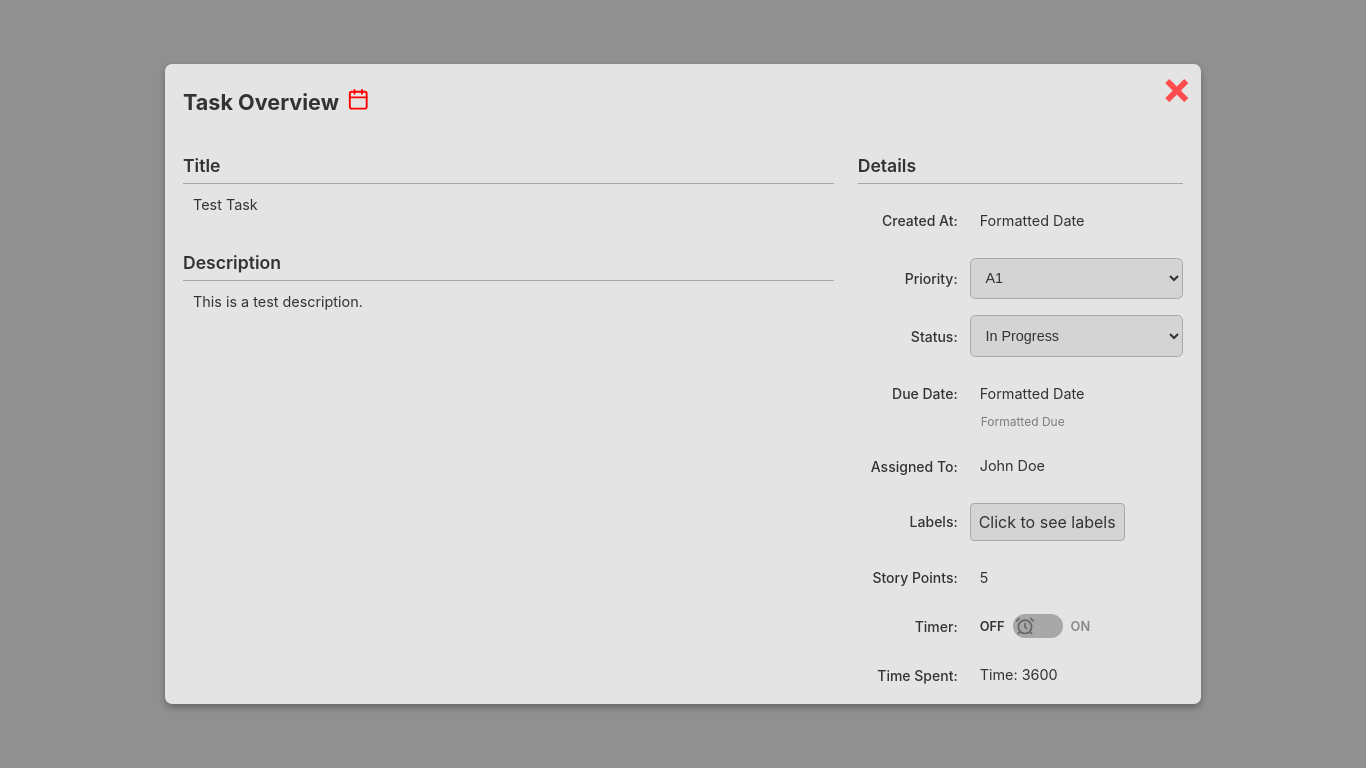
ViewTaskModal - Integration Tests › ViewTaskModal - Label Field › opens labels dropdown on clicking label field
The image size is (1366, 768).
Click the text "Click to see labels" at (1047, 522), box top-left (970, 503), bottom-right (1125, 541)
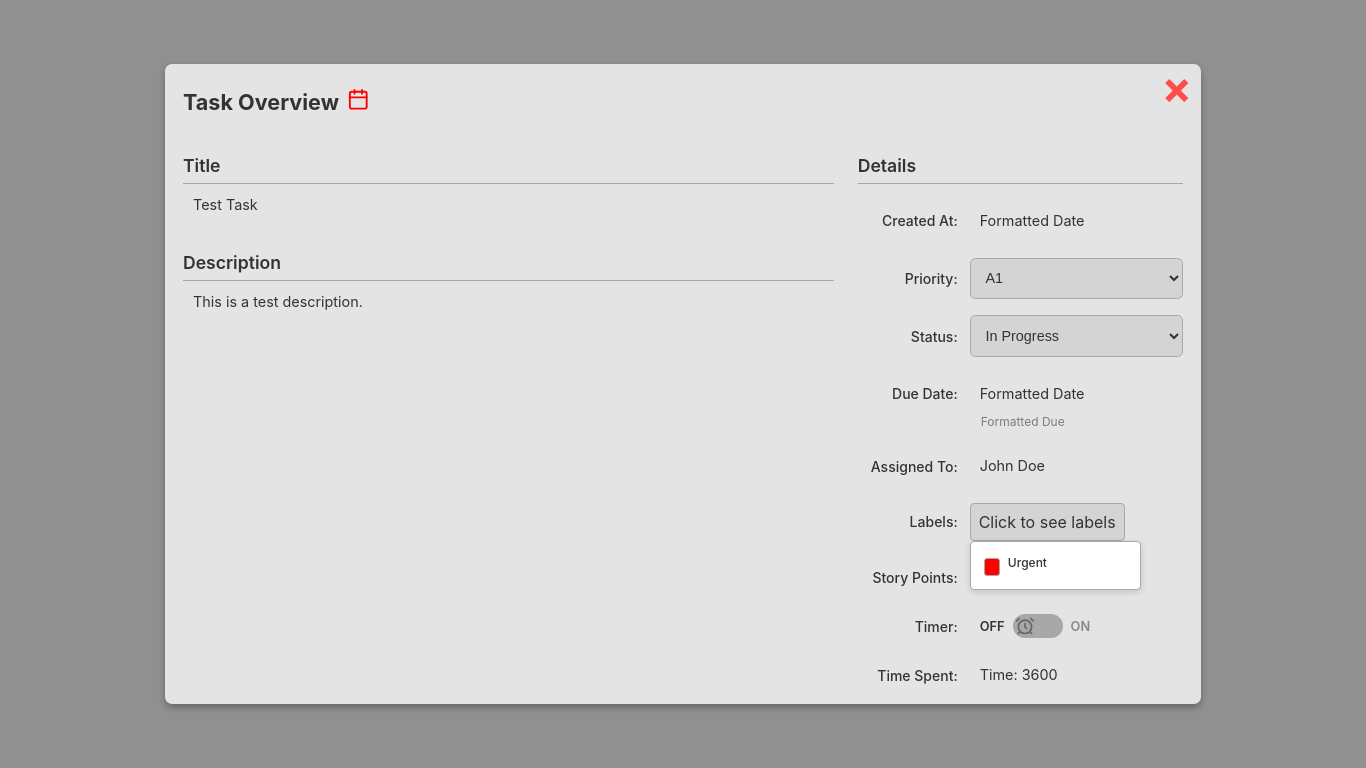
Check: the element with class "nested-dropdown-menu" is shown, box top-left (970, 541), bottom-right (1141, 590)
